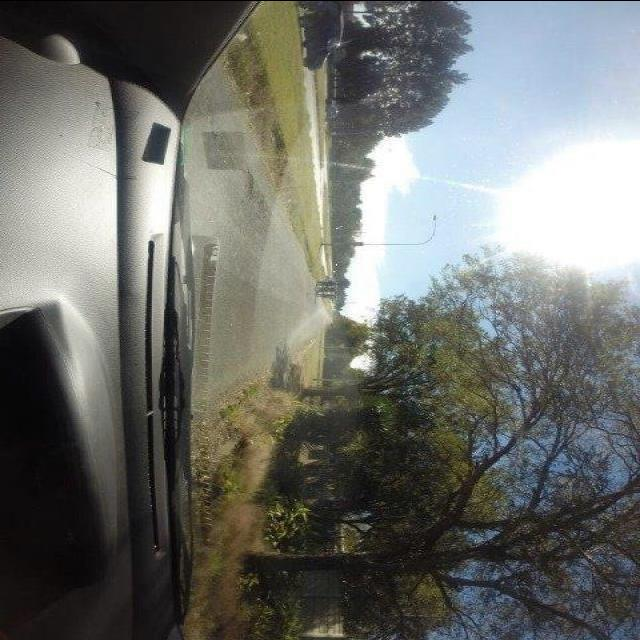lubang: (243, 173, 261, 198)
